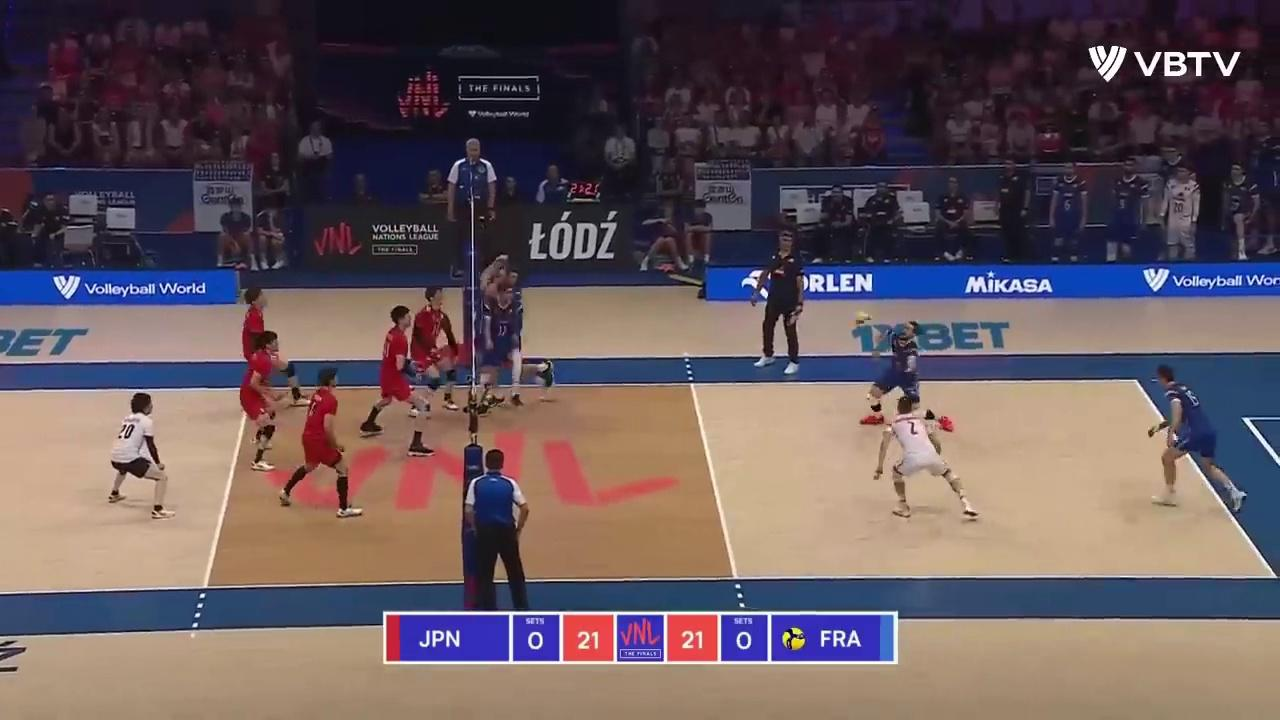ball: (853, 312, 873, 325)
